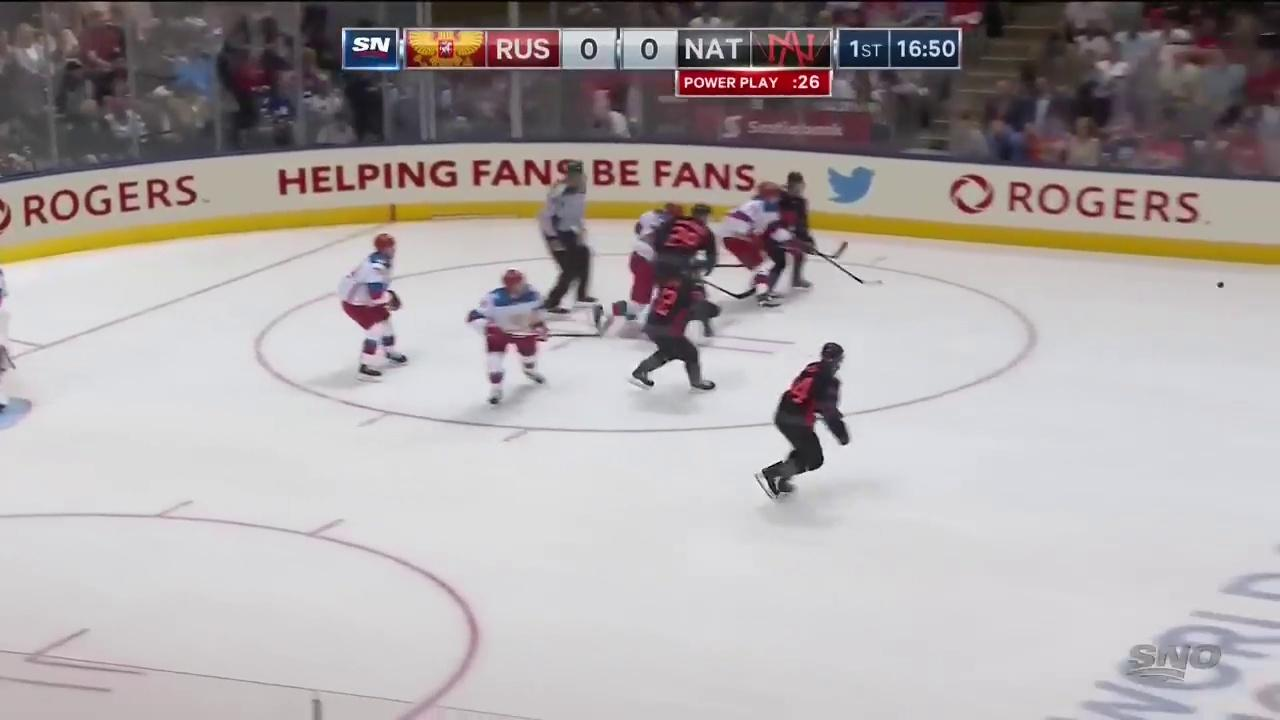ball: (1216, 282, 1225, 288)
